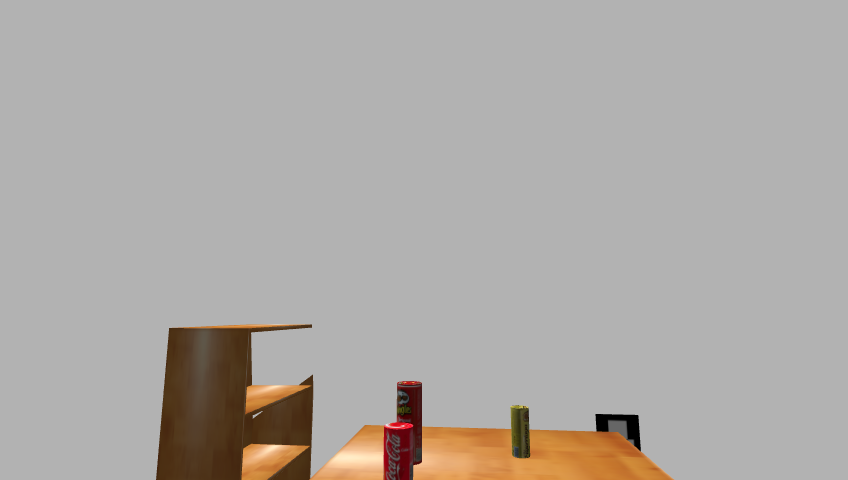aruco marker: (591, 412, 646, 456)
biscuits pack: (509, 406, 531, 460)
bookshelf: (150, 322, 319, 480)
coke can: (381, 423, 419, 479)
dinner table: (293, 425, 708, 480)
pringles can: (394, 380, 424, 467)
